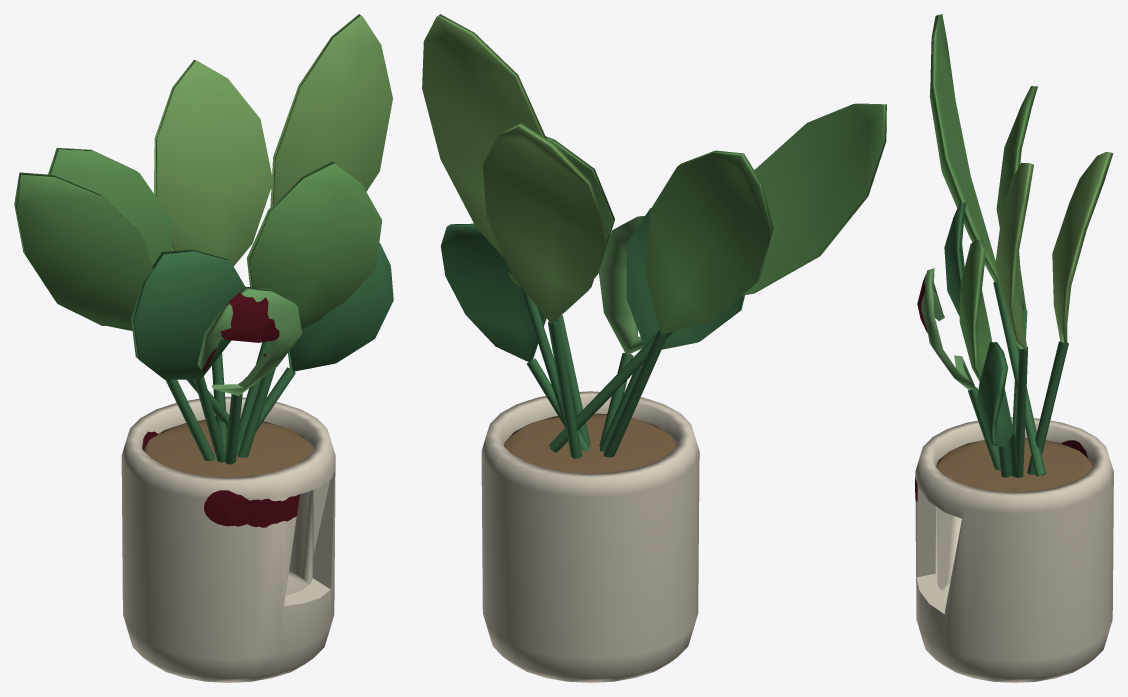
The model's file is floor_planter.glb.
The picture shows the model from 3 angles, left to right: view 1: azimuth 30°, elevation 25°; view 2: azimuth 150°, elevation 25°; view 3: azimuth 270°, elevation 25°; orthographic projection. The views are drawn at different scales.
Visible parts, largest first — view 1: OB_FloorPlanter_01_Static; view 2: OB_FloorPlanter_01_Static; view 3: OB_FloorPlanter_01_Static.
Boxes of the visible parts, box(x1,y1,x2,y2) form: OB_FloorPlanter_01_Static: box(14, 14, 393, 682); OB_FloorPlanter_01_Static: box(422, 14, 886, 682); OB_FloorPlanter_01_Static: box(915, 14, 1113, 682).
Size of the model in its own units: 1.12 by 1.52 by 0.5006.
5 materials, 1 textured.
